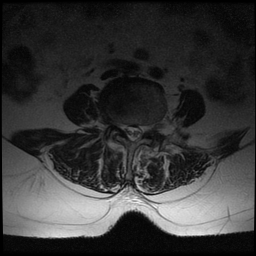CCS_normal: (129, 116, 136, 149)
LFS_normal: (144, 113, 152, 139)
LLS_normal: (136, 115, 144, 145)
RFS_stenosis: (115, 111, 123, 135)
RLS_normal: (122, 116, 129, 142)
